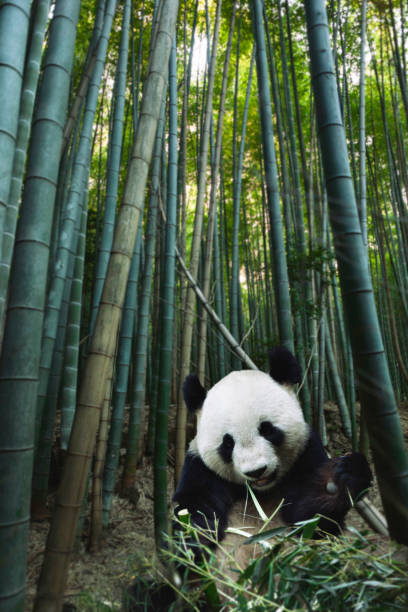panda: (156, 326, 314, 527)
